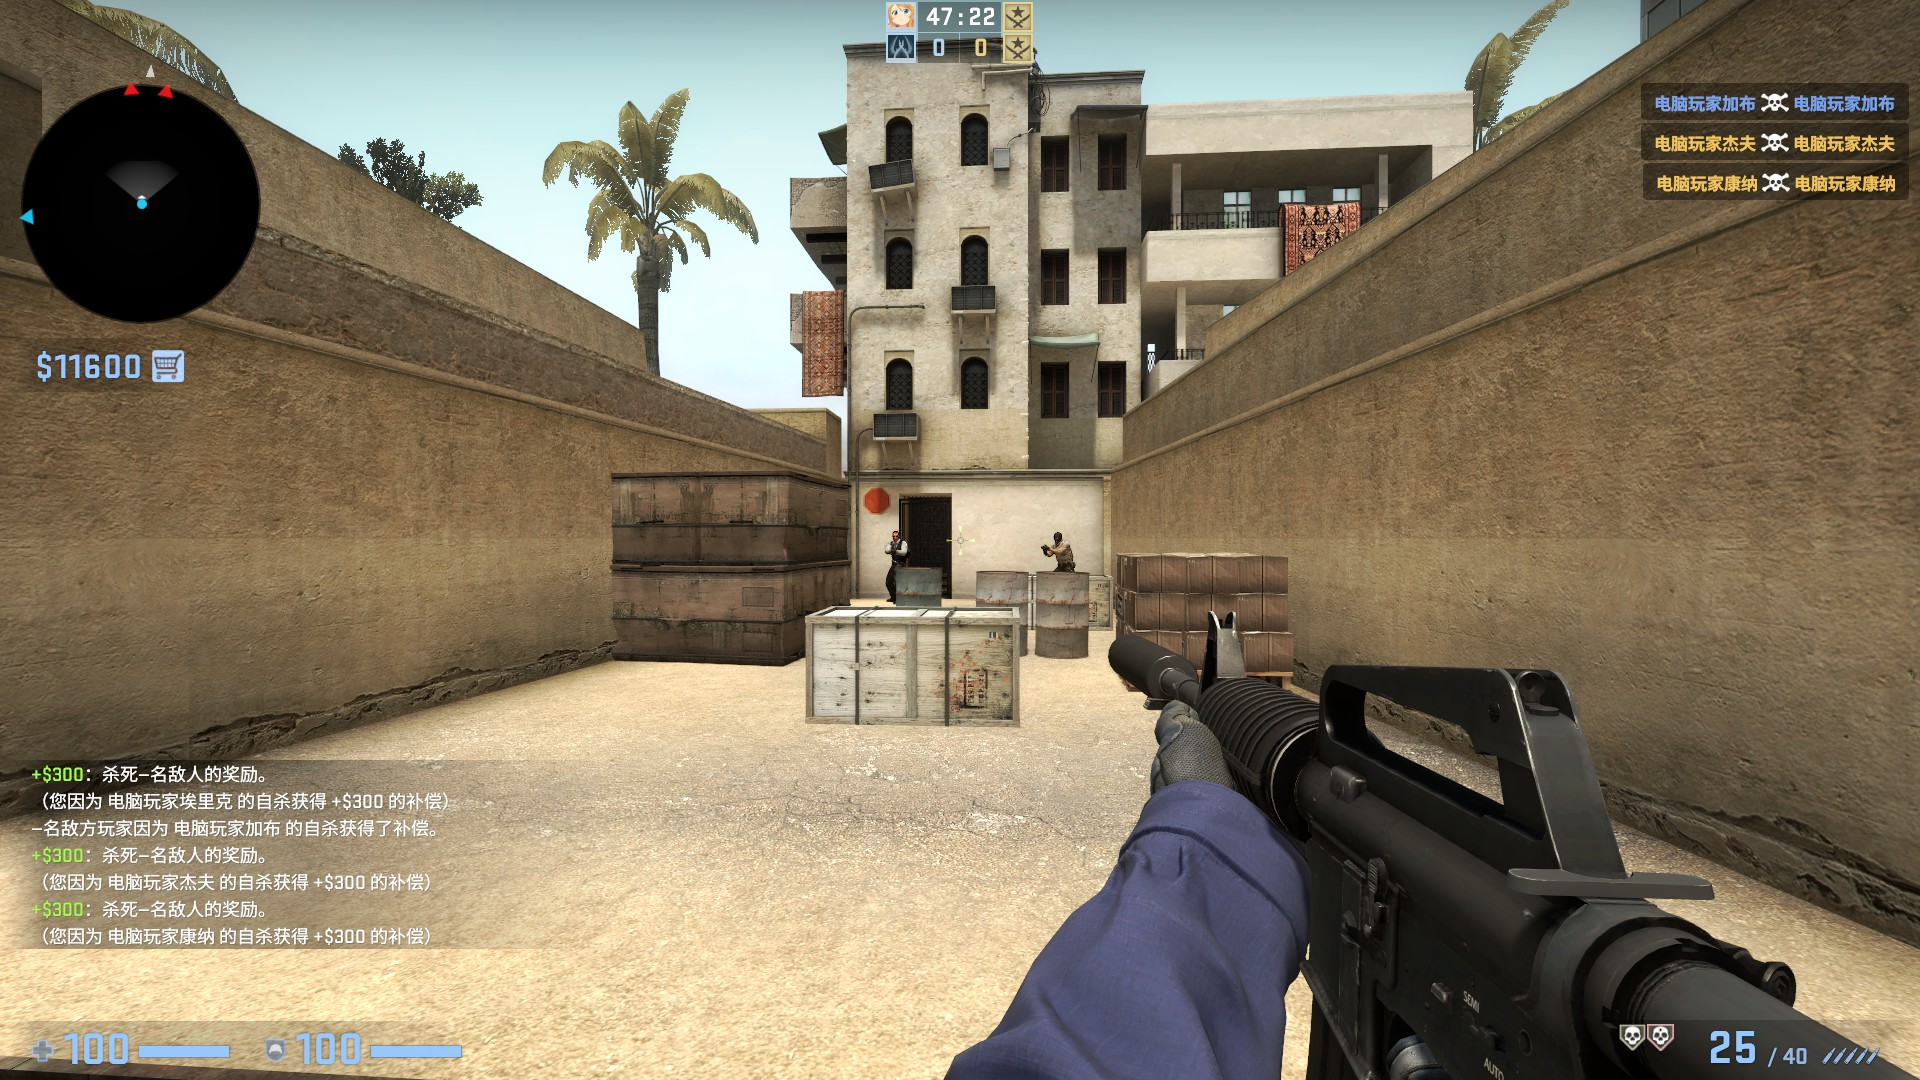head: (1051, 530, 1060, 543), (891, 530, 898, 541)
